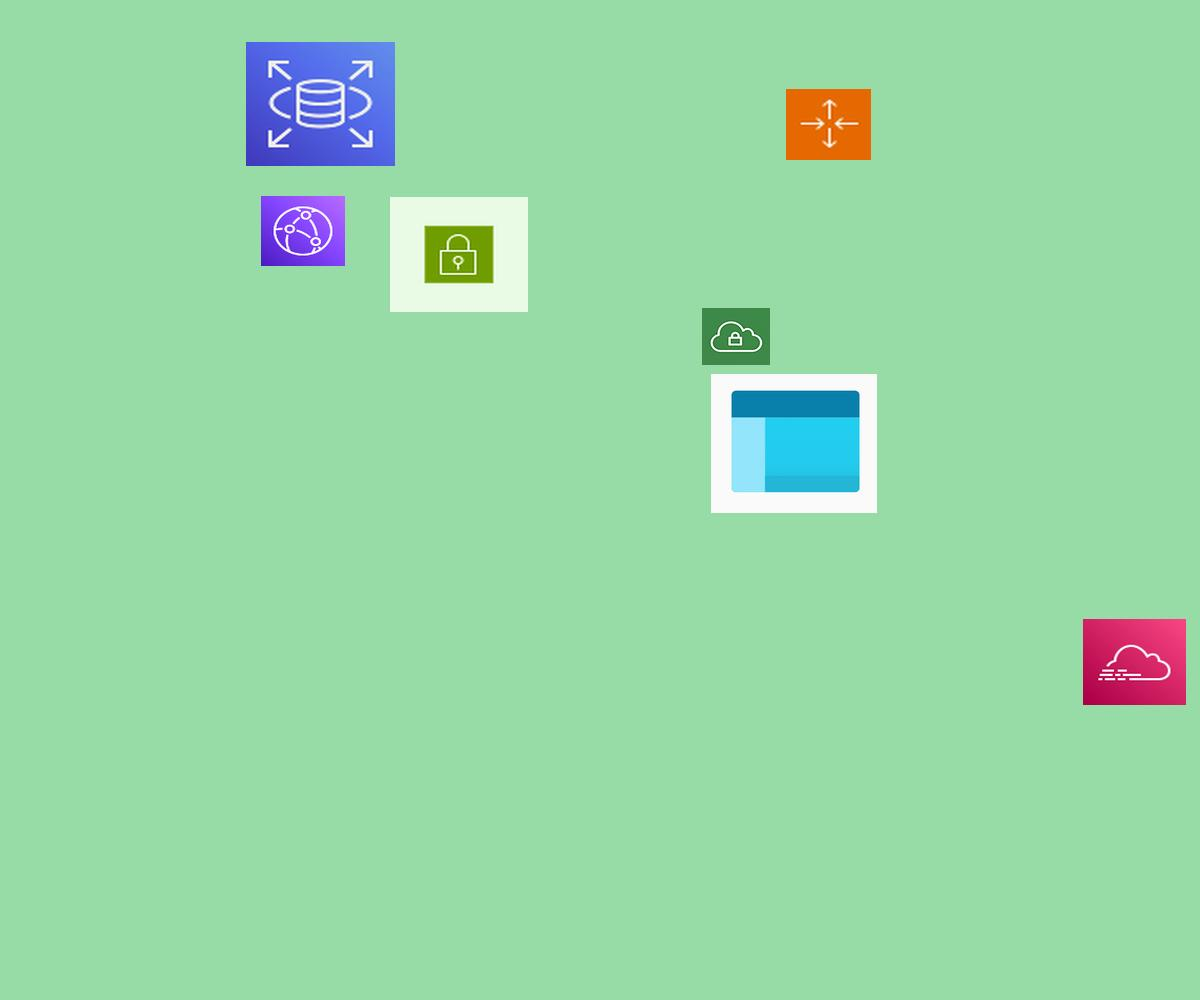AWS-CloudFront: (261, 196, 345, 266)
AWS-CloudTrail: (1083, 619, 1186, 705)
AWS-Private_vpc: (702, 308, 770, 365)
AWS-Public-subnet: (390, 197, 528, 312)
AWS-RDS: (246, 42, 395, 166)
AWS-Scaling-group: (786, 89, 871, 160)
Azure_management-portal: (711, 374, 877, 513)
